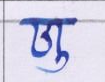u_matra: (35, 53, 71, 74)
